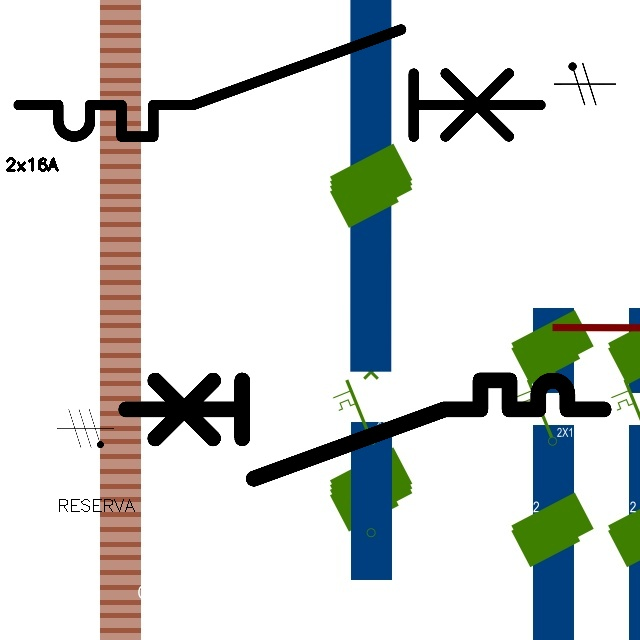interruptor_termomagnetico: (5, 16, 554, 150), (113, 368, 615, 491)
